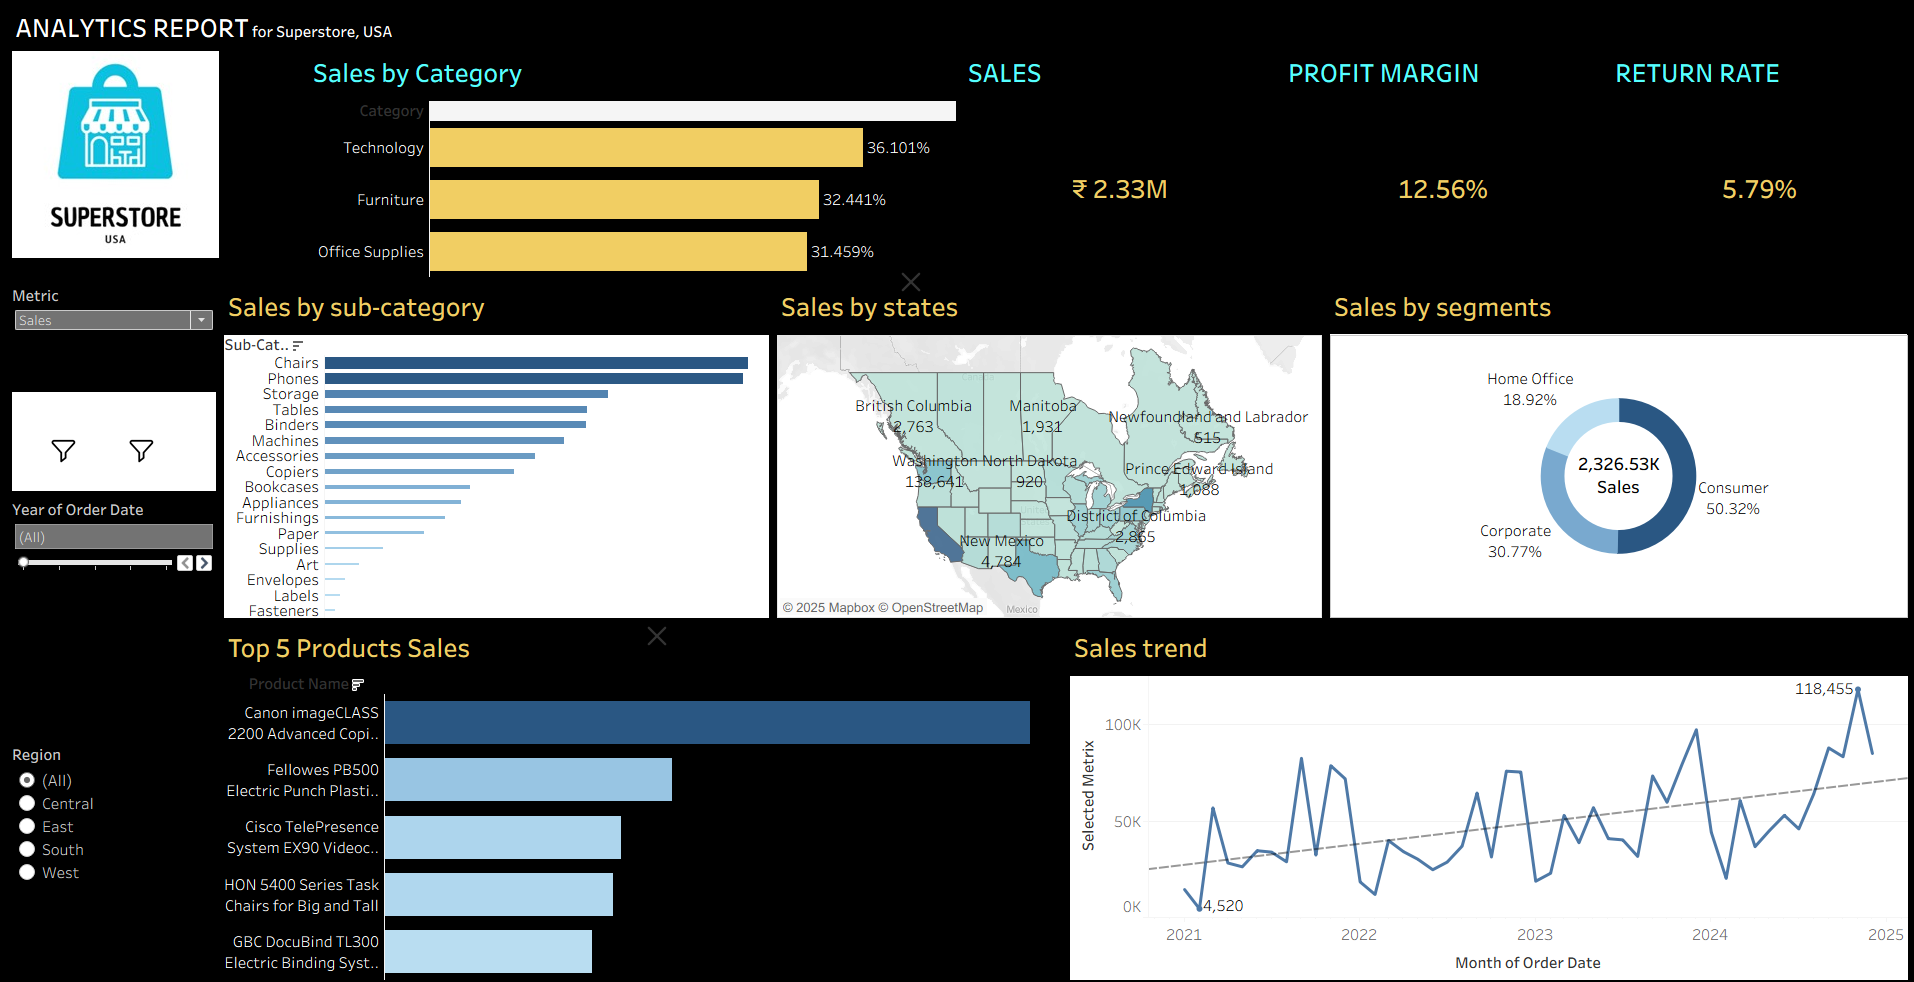

Layout of this report page (visuals, bound fields, positions):
{"tool":"tableau","page":{"name":"Dashboard 1","canvas":[1000,1000],"units":"permille","ordinal":0},"visuals":[{"type":"text","box":[4.8,10,990.3,39.8]},{"type":"image","param":"Image/Picture1.jpg","box":[4.8,49.8,154.6,235]},{"type":"worksheet","title":"Sales by Category","mark":"Automatic","rows":["Category"],"box":[159.4,49.8,340.4,235]},{"type":"worksheet","title":"Sales","mark":"Automatic","box":[499.8,49.8,166.6,235]},{"type":"worksheet","title":"Profit Margin","mark":"Automatic","box":[666.4,49.8,170.2,235]},{"type":"worksheet","title":"Return rate","mark":"Automatic","box":[836.6,49.8,158.6,235]},{"type":"blank","box":[406.2,166,219.7,333.3]},{"type":"dashboard-object","box":[467.1,269.7,14.5,30]},{"type":"parameter","param":"[Parameters].[Parameter 3]","box":[4.8,284.8,110.3,107.2]},{"type":"worksheet","title":"Sales by sub-category","mark":"Automatic","rows":["Sub-Category"],"box":[115.2,284.8,287.8,342.3]},{"type":"worksheet","title":"Sales by States","mark":"Automatic","box":[402.9,284.8,287.7,342.3]},{"type":"worksheet","title":"Sales by Segments","mark":"Pie","rows":["Calculation_776026540341501960","Calculation_776026540341501960"],"box":[690.6,284.8,304.6,342.3]},{"type":"blank","box":[4.8,392,110.3,107.2]},{"type":"dashboard-object","box":[25.4,439.4,14.5,30]},{"type":"dashboard-object","box":[66.4,439.4,14.5,30]},{"type":"filter","title":"Sales by Category","param":"[federated.1hub4n713ojy681790b7k02ea9ja].[yr:Order Date:ok]","box":[4.8,499.4,110.4,245.9]},{"type":"dashboard-object","box":[334.9,626.7,14.5,30]},{"type":"worksheet","title":"Top 5 Product by Sales","mark":"Automatic","rows":["Product Name"],"cols":["Calculation_776026540330319877"],"box":[115.2,627.1,439.9,363]},{"type":"worksheet","title":"Sales Trend","mark":"Automatic","rows":["Calculation_776026540317827073"],"cols":["Order Date"],"box":[555.1,627.1,440.1,363]},{"type":"filter","title":"Sales by Category","param":"[federated.1hub4n713ojy681790b7k02ea9ja].[none:Region:nk]","box":[4.8,745.3,110.4,244.7]}]}

Visuals, with their boxes on the dashboard's canvas, which has no fixed pixel size, in thousandths of its width and height (x1, y1, x2, y2). These are canvas units, not pixel positions in the 1914x982 screenshot, which may show the page scaled, cropped or inside an application window:
text: bbox(5, 10, 995, 50)
image: bbox(5, 50, 159, 285)
"Sales by Category" worksheet: bbox(159, 50, 500, 285)
"Sales" worksheet: bbox(500, 50, 666, 285)
"Profit Margin" worksheet: bbox(666, 50, 837, 285)
"Return rate" worksheet: bbox(837, 50, 995, 285)
blank: bbox(406, 166, 626, 499)
dashboard-object: bbox(467, 270, 482, 300)
parameter: bbox(5, 285, 115, 392)
"Sales by sub-category" worksheet: bbox(115, 285, 403, 627)
"Sales by States" worksheet: bbox(403, 285, 691, 627)
"Sales by Segments" worksheet (Pie marks): bbox(691, 285, 995, 627)
blank: bbox(5, 392, 115, 499)
dashboard-object: bbox(25, 439, 40, 469)
dashboard-object: bbox(66, 439, 81, 469)
"Sales by Category" filter: bbox(5, 499, 115, 745)
dashboard-object: bbox(335, 627, 349, 657)
"Top 5 Product by Sales" worksheet: bbox(115, 627, 555, 990)
"Sales Trend" worksheet: bbox(555, 627, 995, 990)
"Sales by Category" filter: bbox(5, 745, 115, 990)
